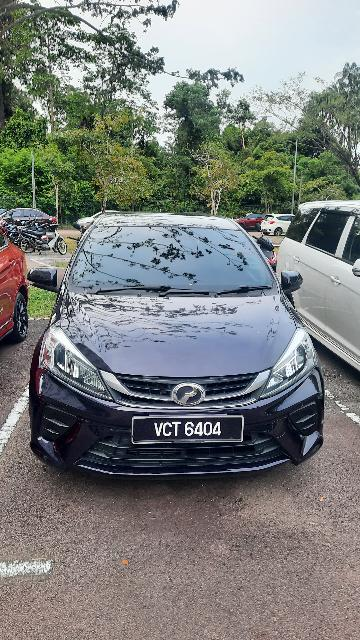License_Plate: (127, 414, 249, 445)
car: (24, 214, 335, 481), (274, 195, 360, 387)
